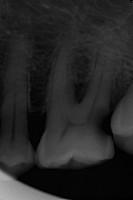Endo-Periodontal Lesion: (74, 82, 90, 102)
